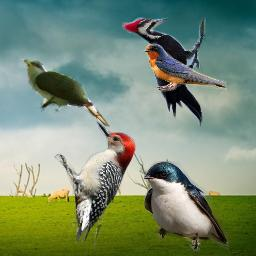Cuckoo: (21, 59, 110, 127)
Swallow: (144, 161, 229, 251), (142, 42, 227, 93)
Woodpecker: (51, 119, 139, 248), (122, 17, 206, 127)
